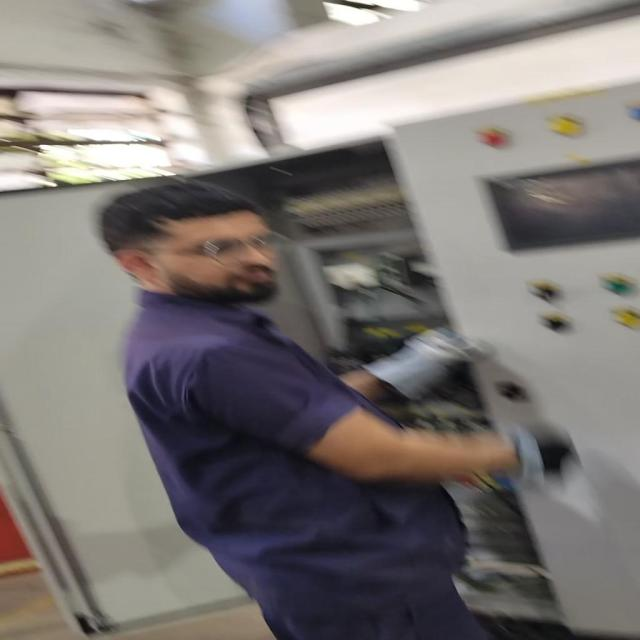Gloves-Detection: (364, 318, 478, 400), (498, 418, 594, 503)
